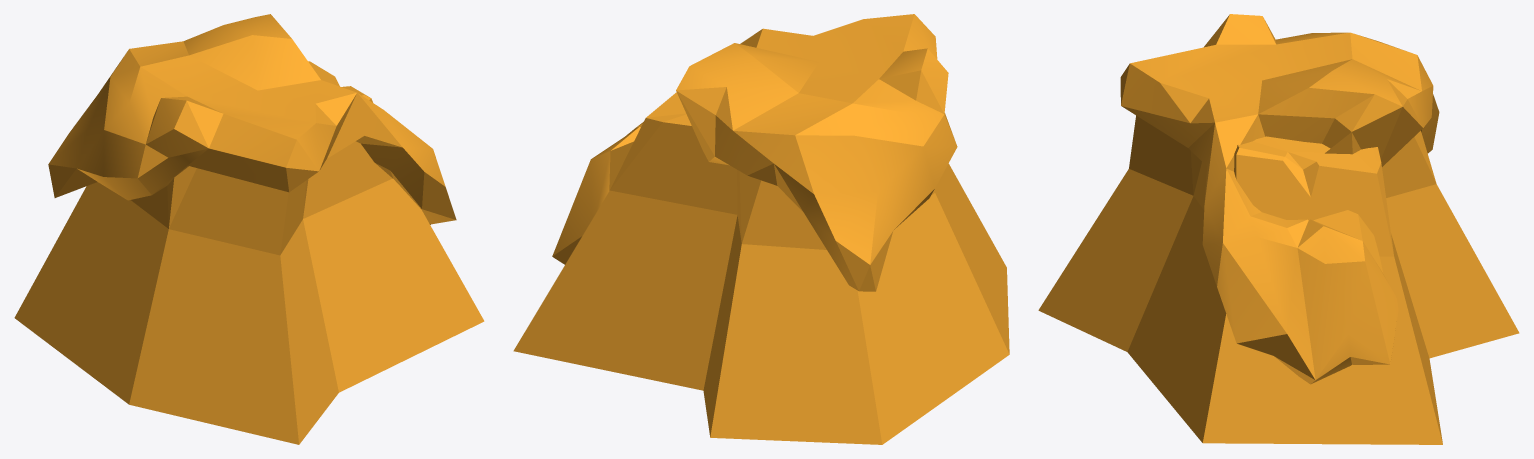
The model's file is SM_Tree_Pine_Stump_A_Snow.fbx.
3 renders of one model, left to right at view 1: azimuth 30°, elevation 25°; view 2: azimuth 150°, elevation 25°; view 3: azimuth 270°, elevation 25°, orthographic. The views are drawn at different scales.
Visible parts, largest first — view 1: tree-pine-stump-a-snow; view 2: tree-pine-stump-a-snow; view 3: tree-pine-stump-a-snow.
Boxes of the visible parts, x1,y1,x2,y2 form: tree-pine-stump-a-snow: [14, 14, 484, 444]; tree-pine-stump-a-snow: [513, 14, 1009, 444]; tree-pine-stump-a-snow: [1038, 14, 1519, 444].
Size of the model in its own units: 0.8863 by 0.6662 by 1.01.
